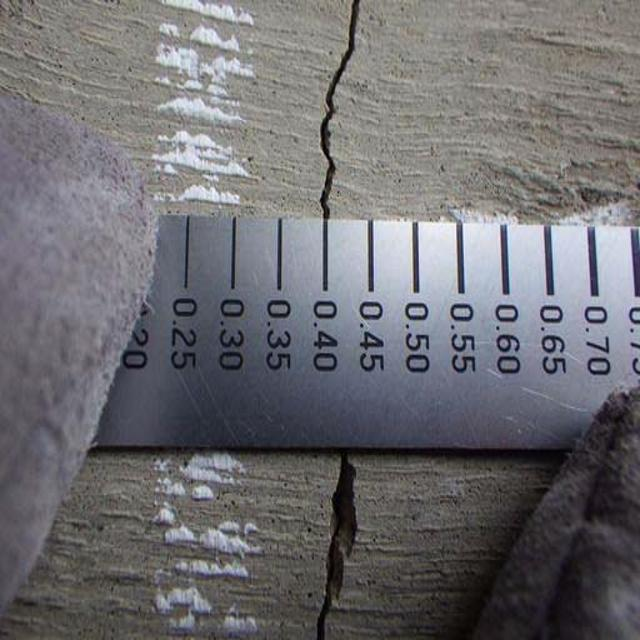crack: (308, 3, 373, 224), (306, 452, 371, 638)
